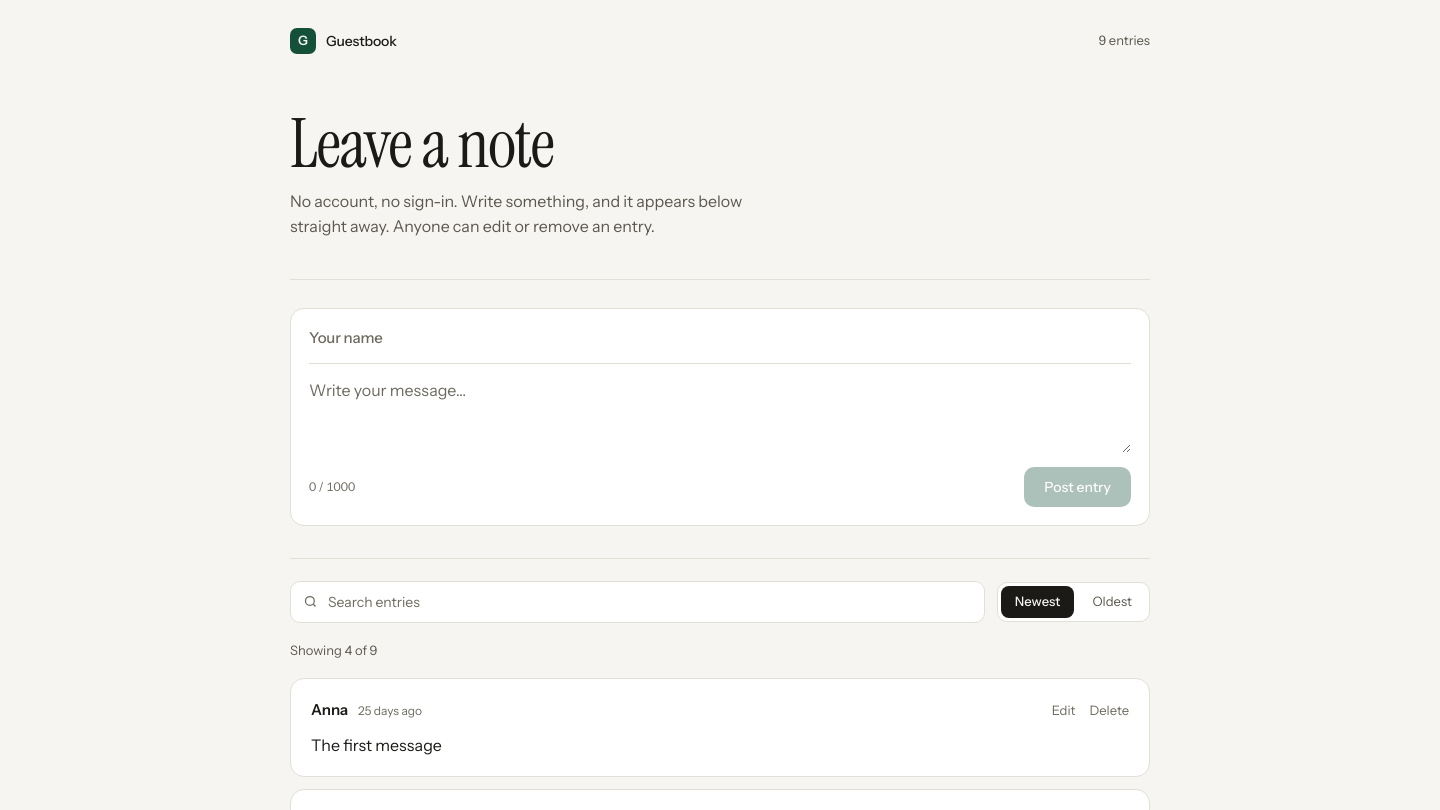
it: correcting and destroying › quotes the entry in the delete confirmation
The width and height of the screenshot is (1440, 810).
Expected: the text "The first message" is shown, [311, 735, 442, 755]
Click the button "Delete".
click(1109, 711)  # box [1090, 701, 1129, 721]
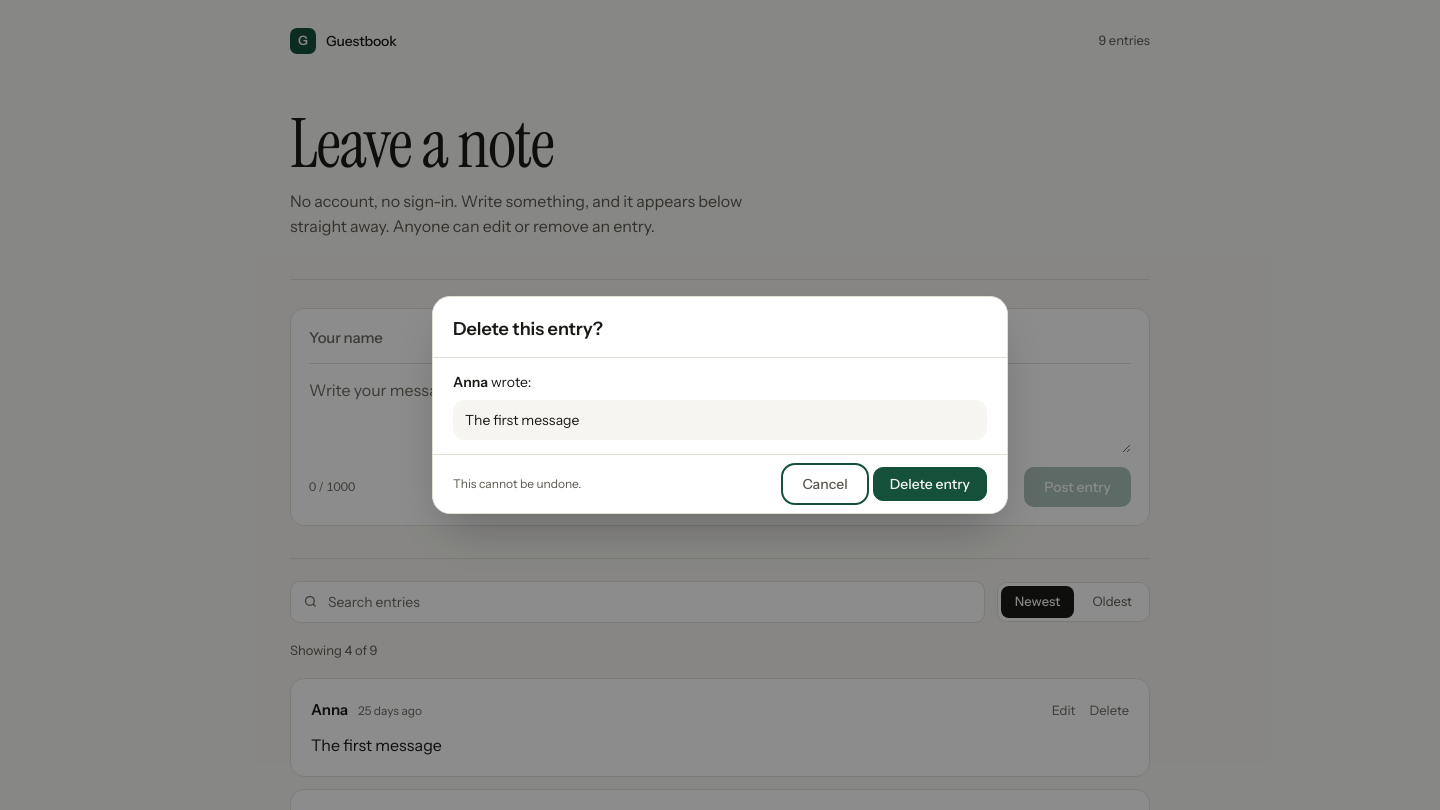
Now the text "Anna" is shown, box [453, 373, 488, 391]
Now the text "The first message" is shown, box [453, 400, 987, 440]
Now the text "This cannot be undone." is shown, box [453, 476, 581, 492]
